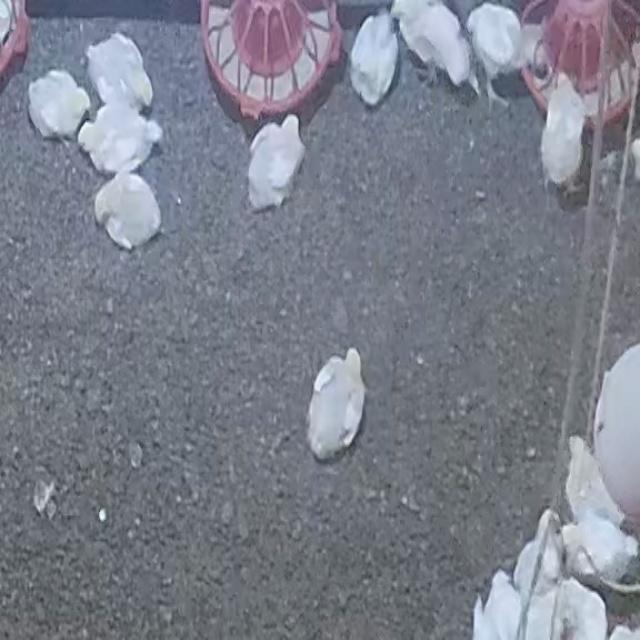chicken: (390, 1, 472, 91), (306, 349, 366, 460), (78, 100, 160, 177), (465, 2, 526, 102), (247, 112, 306, 212), (85, 32, 155, 114), (540, 76, 588, 190), (565, 437, 625, 527), (94, 171, 162, 250), (347, 7, 400, 107), (562, 517, 639, 583), (27, 70, 92, 142), (515, 507, 566, 595), (470, 568, 517, 640), (564, 577, 605, 640), (521, 586, 563, 640)
